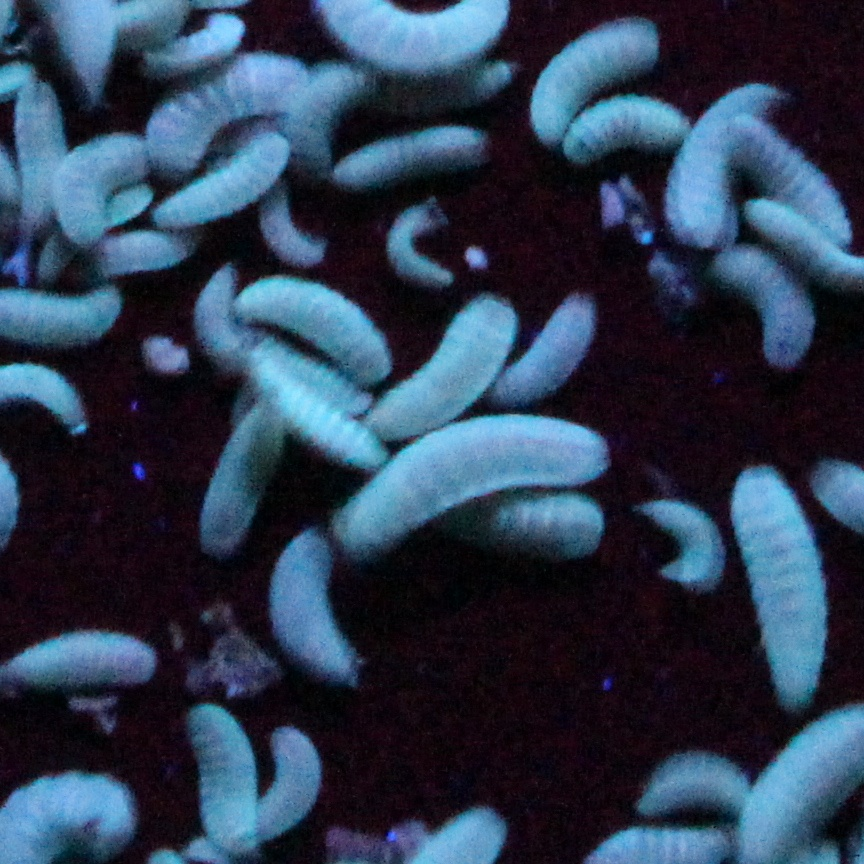larve: (330, 399, 613, 549), (718, 454, 835, 718), (521, 0, 676, 153), (658, 66, 782, 253), (240, 267, 403, 394), (264, 513, 366, 694), (197, 387, 300, 554), (149, 123, 295, 231), (715, 240, 825, 376), (182, 700, 274, 861), (623, 740, 762, 837), (230, 720, 331, 849), (331, 120, 508, 192), (48, 131, 153, 248), (499, 285, 589, 413), (190, 269, 285, 380), (631, 485, 730, 585), (377, 200, 471, 303), (17, 91, 78, 242), (549, 97, 697, 153)
